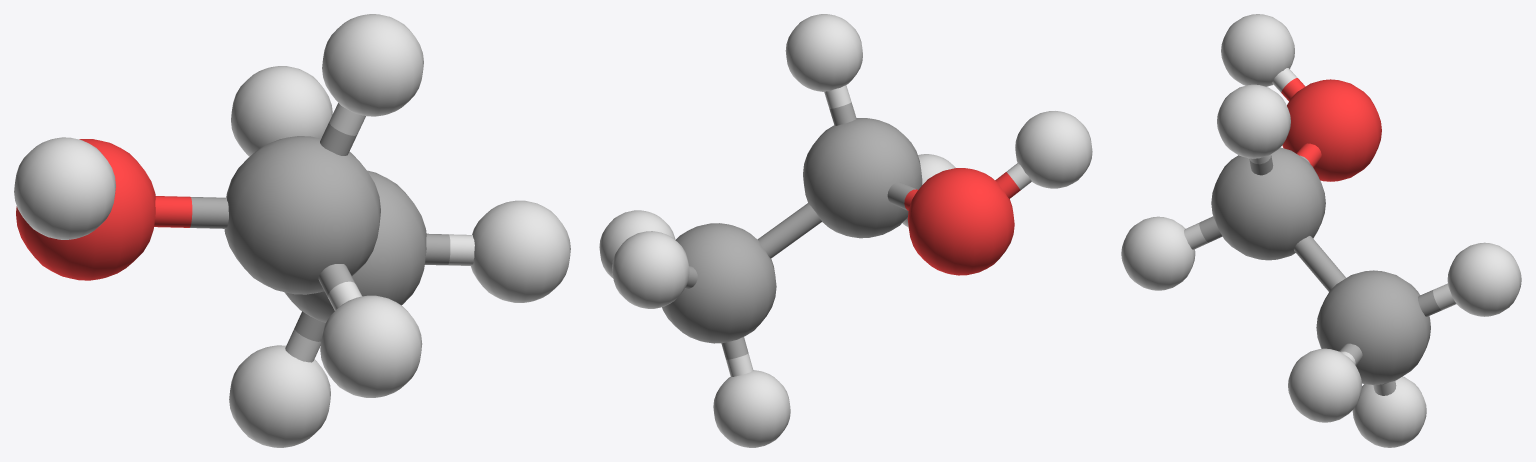
The model's file is etanol .glb.
3 renders of one model, left to right at view 1: azimuth 30°, elevation 25°; view 2: azimuth 150°, elevation 25°; view 3: azimuth 270°, elevation 25°, orthographic. The views are drawn at different scales.
Parts seen in each view (by area): view 1: Shape_Sphere.001, Shape_Sphere.002, Shape_Sphere.008, Shape_Sphere.007, Shape_Sphere.006, Shape_Sphere.003, Shape_Sphere.005, Shape_Sphere, Shape_Sphere.004, Shape_Cylinder.003, Shape_Cylinder.002, Shape_Cylinder.005 (+7 smaller); view 2: Shape_Sphere.001, Shape_Sphere, Shape_Sphere.002, Shape_Sphere.004, Shape_Sphere.006, Shape_Sphere.008, Shape_Sphere.005, Shape_Sphere.003, Shape_Cylinder.001, Shape_Cylinder, Shape_Sphere.007; view 3: Shape_Sphere.001, Shape_Sphere, Shape_Sphere.002, Shape_Sphere.006, Shape_Sphere.003, Shape_Sphere.004, Shape_Sphere.007, Shape_Sphere.008, Shape_Sphere.005, Shape_Cylinder.001, Shape_Cylinder, Shape_Cylinder.013 (+1 smaller).
Part boxes in pixels (<box>): Shape_Sphere.001: <box>224,136,380,294</box>; Shape_Sphere.002: <box>16,139,155,280</box>; Shape_Sphere.008: <box>14,137,115,239</box>; Shape_Sphere.007: <box>320,295,422,397</box>; Shape_Sphere.006: <box>322,14,423,116</box>; Shape_Sphere.003: <box>471,200,570,302</box>; Shape_Sphere.005: <box>229,345,330,447</box>; Shape_Sphere: <box>284,170,426,322</box>; Shape_Sphere.004: <box>231,66,332,156</box>; Shape_Cylinder.003: <box>154,196,192,227</box>; Shape_Cylinder.002: <box>190,197,228,228</box>; Shape_Cylinder.005: <box>448,234,474,265</box>; Shape_Sphere.001: <box>803,118,922,238</box>; Shape_Sphere: <box>662,223,776,343</box>; Shape_Sphere.002: <box>907,168,1014,275</box>; Shape_Sphere.004: <box>612,231,689,308</box>; Shape_Sphere.006: <box>785,14,862,91</box>; Shape_Sphere.008: <box>1015,111,1092,188</box>; Shape_Sphere.005: <box>713,370,790,447</box>; Shape_Sphere.003: <box>599,210,675,278</box>; Shape_Cylinder.001: <box>783,203,821,239</box>; Shape_Cylinder: <box>757,221,796,258</box>; Shape_Sphere.007: <box>902,154,955,227</box>; Shape_Sphere.001: <box>1211,147,1325,260</box>; Shape_Sphere: <box>1316,270,1430,384</box>; Shape_Sphere.002: <box>1282,79,1381,181</box>; Shape_Sphere.006: <box>1217,84,1290,158</box>; Shape_Sphere.003: <box>1288,348,1361,422</box>; Shape_Sphere.004: <box>1447,242,1521,316</box>; Shape_Sphere.007: <box>1121,216,1195,290</box>; Shape_Sphere.008: <box>1221,14,1294,86</box>; Shape_Sphere.005: <box>1352,376,1426,447</box>; Shape_Cylinder.001: <box>1294,236,1328,272</box>; Shape_Cylinder: <box>1312,258,1345,291</box>; Shape_Cylinder.013: <box>1184,222,1208,249</box>.
Size of the model in its own units: 4.37 by 3.5 by 3.56.
